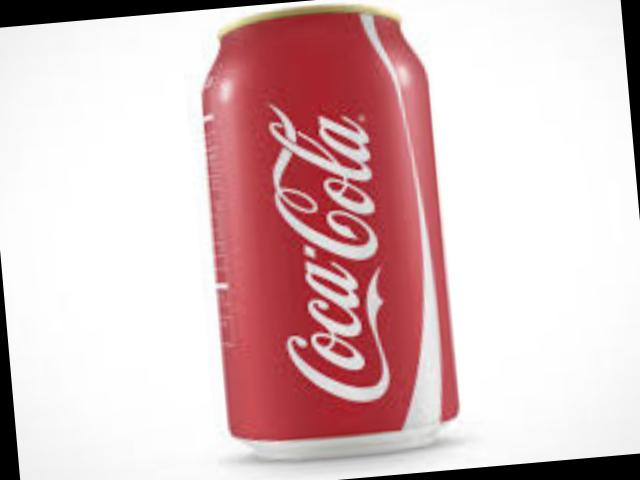metal: (198, 4, 453, 454)
